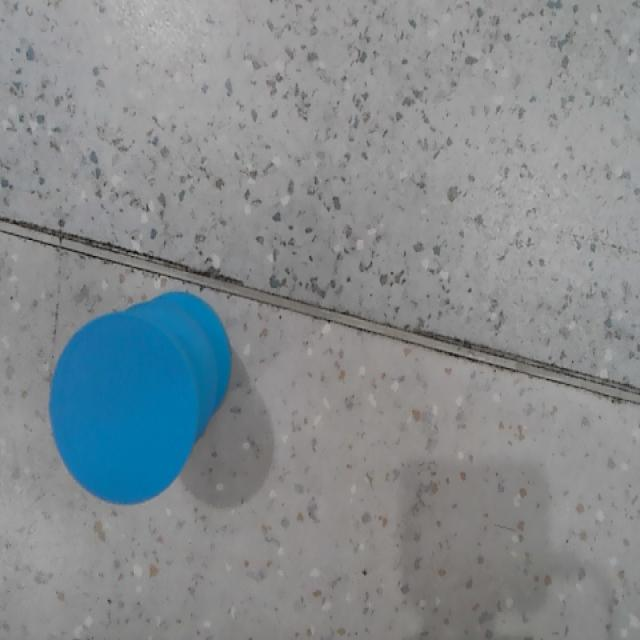b: (49, 314, 195, 506)
